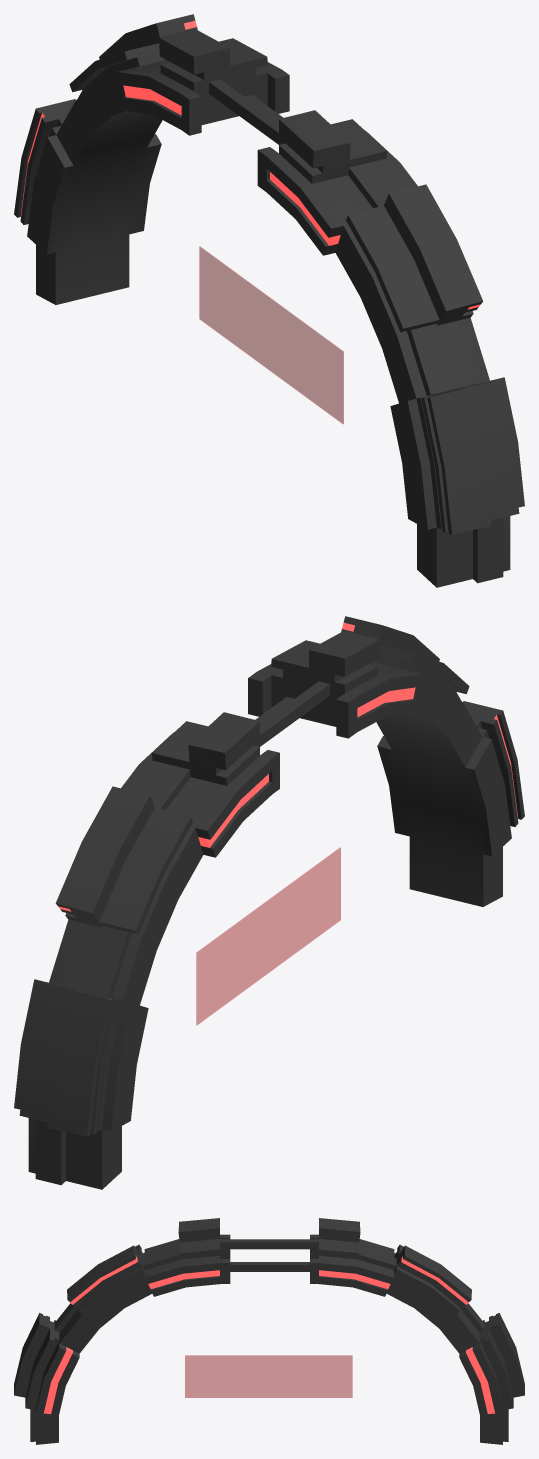
Rendered from gate_groundWide_red.fbx.
3 views of the same model, one above another, from view 1: azimuth 30°, elevation 25°; view 2: azimuth 150°, elevation 25°; view 3: azimuth 270°, elevation 25° (orthographic). The views are drawn at different scales.
Parts seen in each view (by area): view 1: gate_groundWide_red; view 2: gate_groundWide_red; view 3: gate_groundWide_red.
Part boxes in pixels (x1,y1,x2,y2): gate_groundWide_red: (14, 14, 524, 587); gate_groundWide_red: (14, 616, 524, 1189); gate_groundWide_red: (14, 1218, 524, 1444).
Size of the model in its own units: 1.17 by 3.95 by 8.86.
